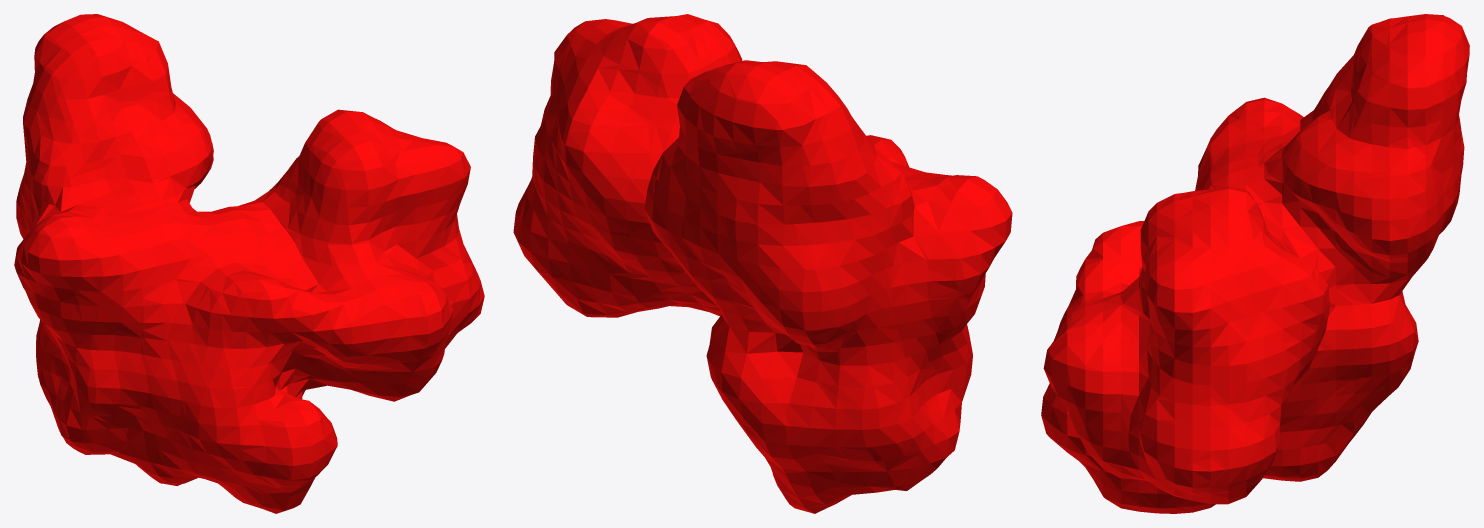
Rendered from ychF_coarse.dae.
The picture shows the model from 3 angles, left to right: view 1: azimuth 30°, elevation 25°; view 2: azimuth 150°, elevation 25°; view 3: azimuth 270°, elevation 25°; orthographic projection. The views are drawn at different scales.
Parts seen in each view (by area): view 1: ychF; view 2: ychF; view 3: ychF.
Part boxes in pixels (x1,y1,x2,y2): ychF: (14,14,484,513); ychF: (513,14,1012,513); ychF: (1041,14,1469,513).
Size of the model in its own units: 71.37 by 66.47 by 56.14.
